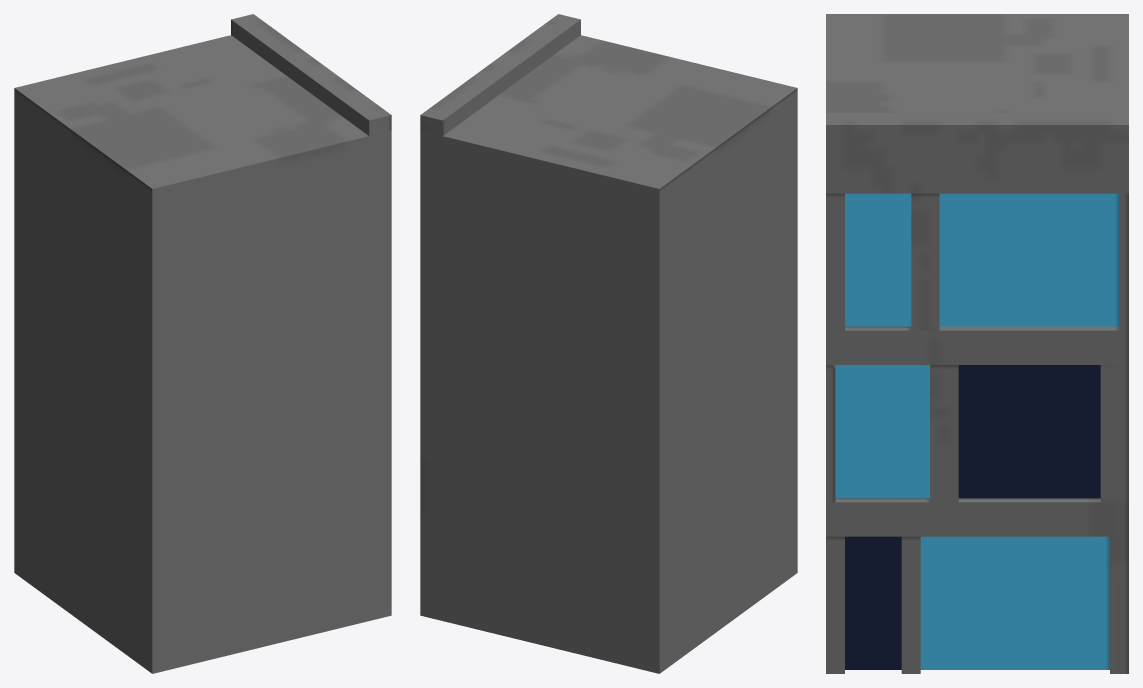
Rendered from GÓRA_DACH.dae.
3 views of the same model, side by side, from view 1: azimuth 30°, elevation 25°; view 2: azimuth 150°, elevation 25°; view 3: azimuth 270°, elevation 25° (orthographic). The views are drawn at different scales.
Parts seen in each view (by area): view 1: Content; view 2: Content; view 3: Content.
Boxes of the visible parts, left/top/right/bottom form: Content: left=14, top=14, right=391, bottom=673; Content: left=420, top=14, right=797, bottom=673; Content: left=826, top=14, right=1128, bottom=673.
Size of the model in its own units: 32 by 64 by 32.
1 material, 1 textured.
